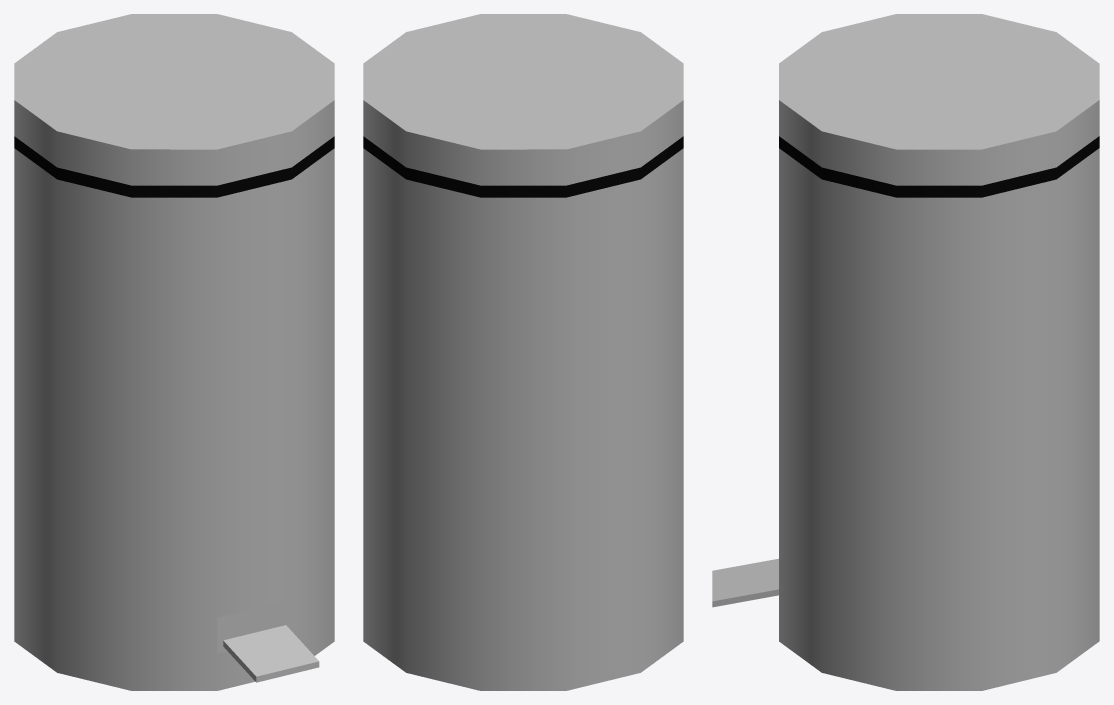
File: boteB.obj
3 renders of one model, left to right at view 1: azimuth 30°, elevation 25°; view 2: azimuth 150°, elevation 25°; view 3: azimuth 270°, elevation 25°, orthographic.
Parts seen in each view (by area): view 1: BoteB; view 2: BoteB; view 3: BoteB.
Part boxes in pixels (box(x1,y1,x2,y2)): BoteB: box(14, 14, 334, 690); BoteB: box(363, 14, 683, 690); BoteB: box(712, 14, 1099, 690).
Size of the model in its own units: 0.3067 by 0.5715 by 0.3702.
Materials: 3 (3 with a texture image).
